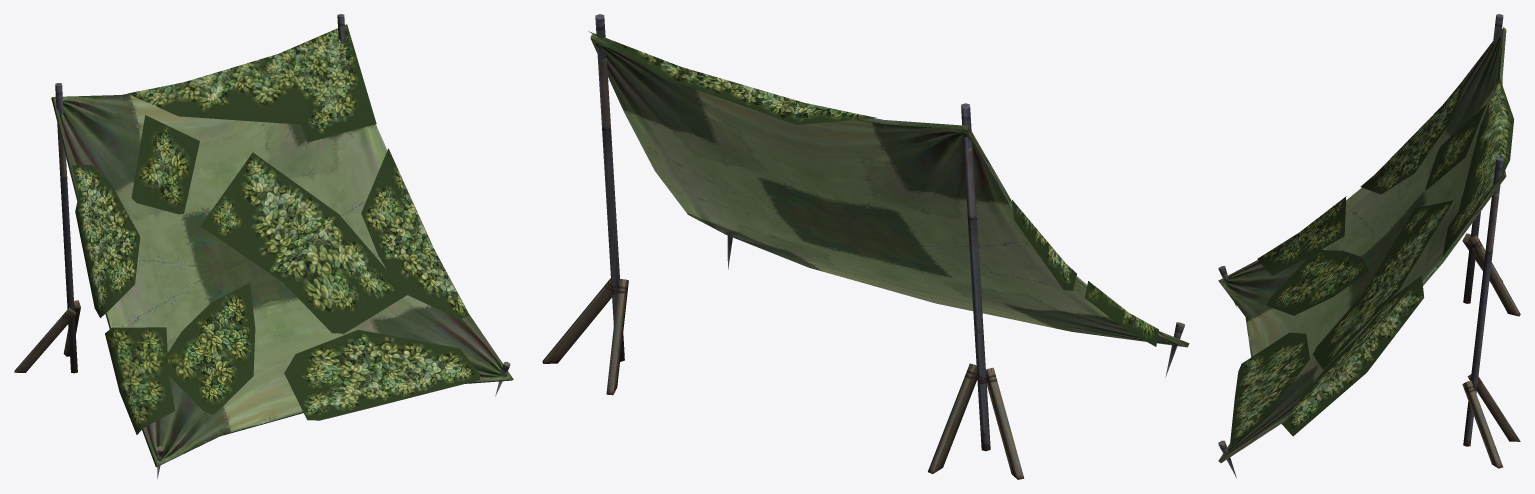
Rendered from all_item_slave_camo_netting2.glb.
3 views of the same model, side by side, from view 1: azimuth 30°, elevation 25°; view 2: azimuth 150°, elevation 25°; view 3: azimuth 270°, elevation 25° (orthographic). The views are drawn at different scales.
Visible parts, largest first — view 1: all_item_slave_camo_netting2; view 2: all_item_slave_camo_netting2; view 3: all_item_slave_camo_netting2.
Part boxes in pixels (x1,y1,x2,y2): all_item_slave_camo_netting2: [14, 14, 513, 479]; all_item_slave_camo_netting2: [542, 14, 1189, 479]; all_item_slave_camo_netting2: [1218, 14, 1520, 478].
Size of the model in its own units: 0.6657 by 0.5076 by 0.4522.
Materials: 2 (2 with a texture image).
